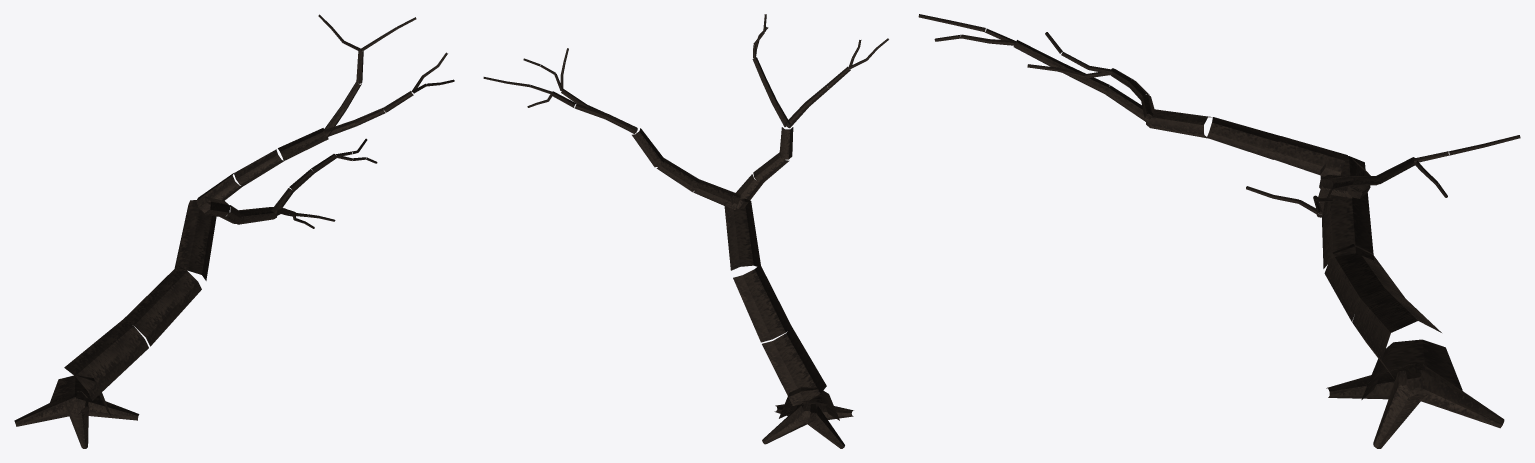
Rendered from mm_tree3.glb.
The picture shows the model from 3 angles, left to right: view 1: azimuth 30°, elevation 25°; view 2: azimuth 150°, elevation 25°; view 3: azimuth 270°, elevation 25°; orthographic projection. The views are drawn at different scales.
Visible parts, largest first — view 1: bark; view 2: bark; view 3: bark.
Boxes of the visible parts, x1,y1,x2,y2 form: bark: (14,14,454,448); bark: (483,14,888,448); bark: (918,14,1520,448).
Bounding box in the file's own units: 8.18 × 6.47 × 6.98.
1 material, 1 textured.
